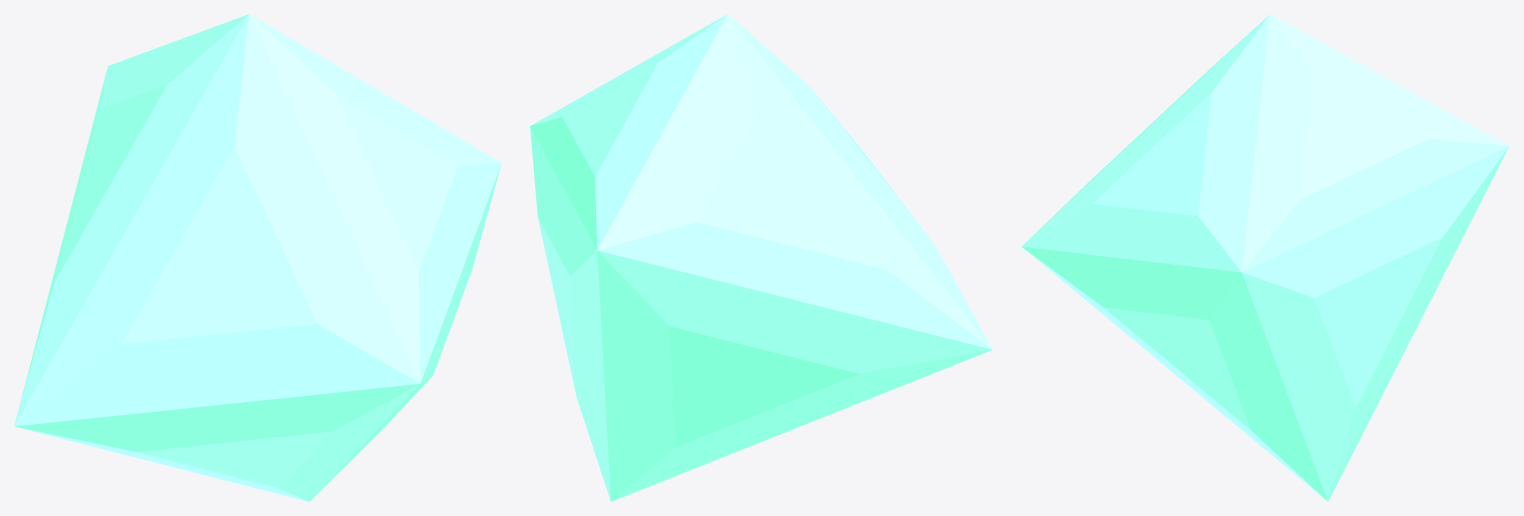
The model's file is Cristal Verde.fbx.
The picture shows the model from 3 angles, left to right: view 1: azimuth 30°, elevation 25°; view 2: azimuth 150°, elevation 25°; view 3: azimuth 270°, elevation 25°; orthographic projection. The views are drawn at different scales.
Parts seen in each view (by area): view 1: Cristal Verde; view 2: Cristal Verde; view 3: Cristal Verde.
Part boxes in pixels (box(x1,y1,x2,y2)): Cristal Verde: box(14, 14, 501, 501); Cristal Verde: box(530, 14, 992, 501); Cristal Verde: box(1021, 14, 1509, 501).
Size of the model in its own units: 218 by 224 by 220.
